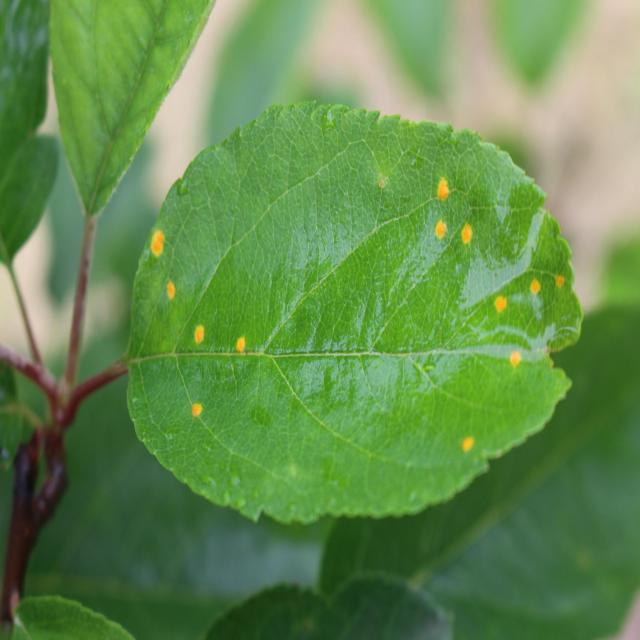Rust: (504, 335, 527, 377), (144, 225, 169, 260), (491, 284, 512, 324), (433, 174, 452, 208), (525, 274, 546, 303), (461, 216, 477, 254), (459, 428, 476, 463), (431, 214, 449, 247), (183, 400, 208, 422), (232, 322, 246, 361), (553, 264, 568, 296), (190, 323, 207, 348), (164, 282, 177, 299)
